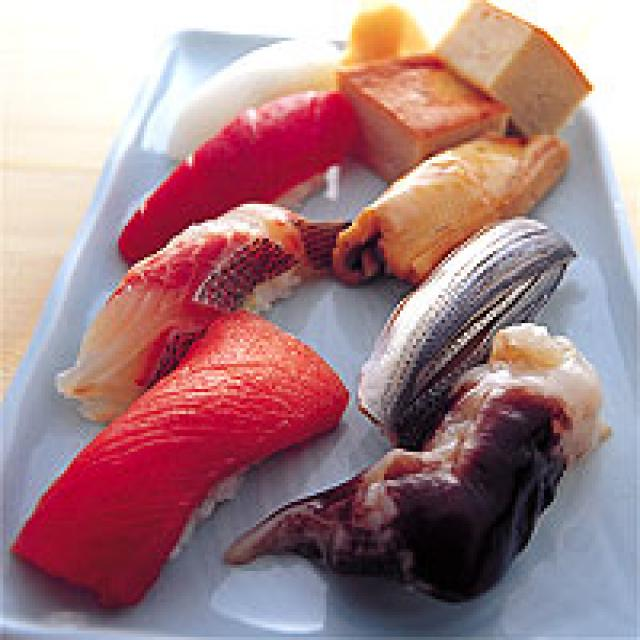寿司卷物: (13, 0, 614, 640)
